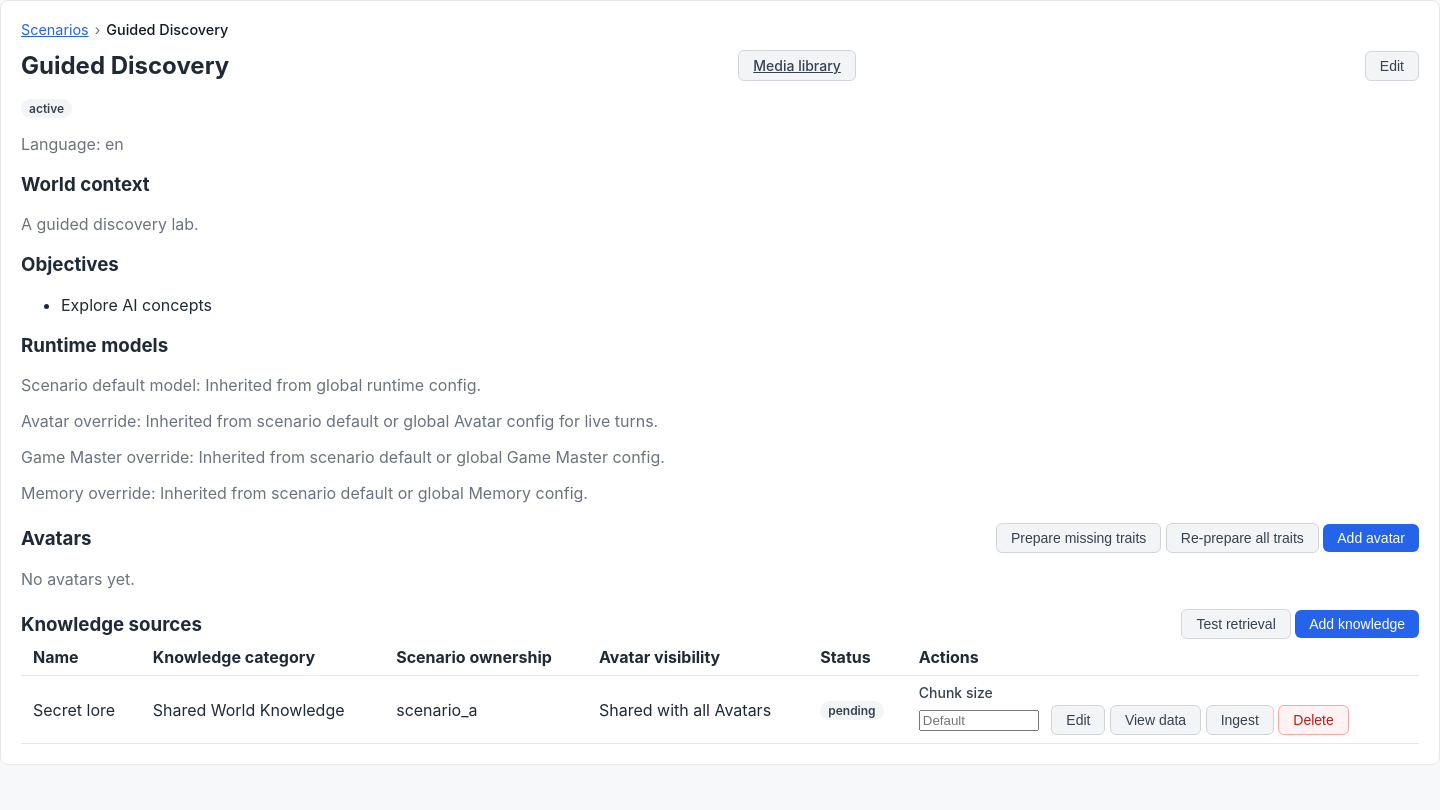
Test: ScenarioDetailPage knowledge ingestion feedback › polls the ingestion job and refreshes the source status on success
Expected: the heading "Guided Discovery" is shown, [21,51,229,80]
Type "500" into the number field named "Chunk size for Secret lore" at x=979, y=721, box [919,710,1039,731]
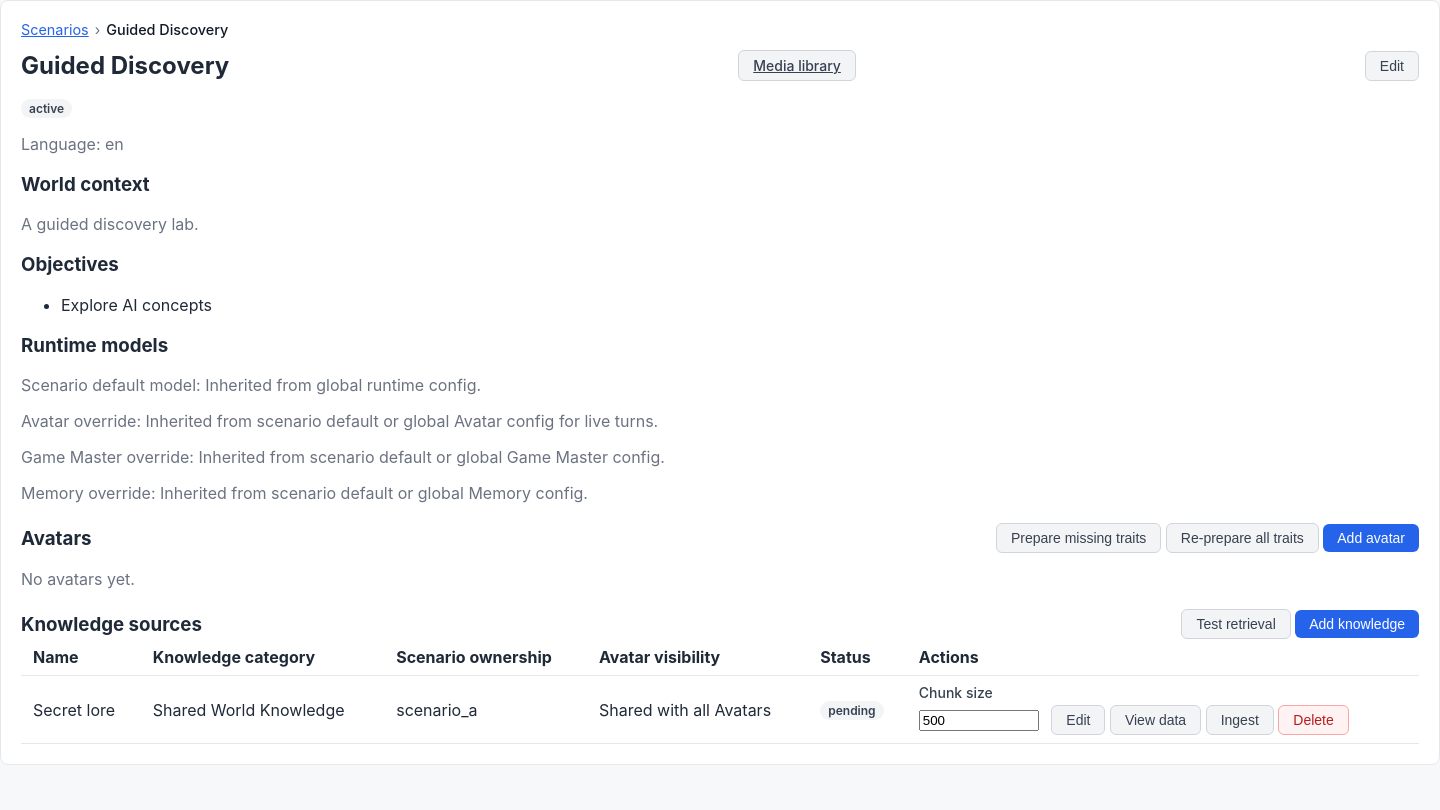
Click the button "Ingest" at x=1240, y=720, box [1206,705,1274,735]
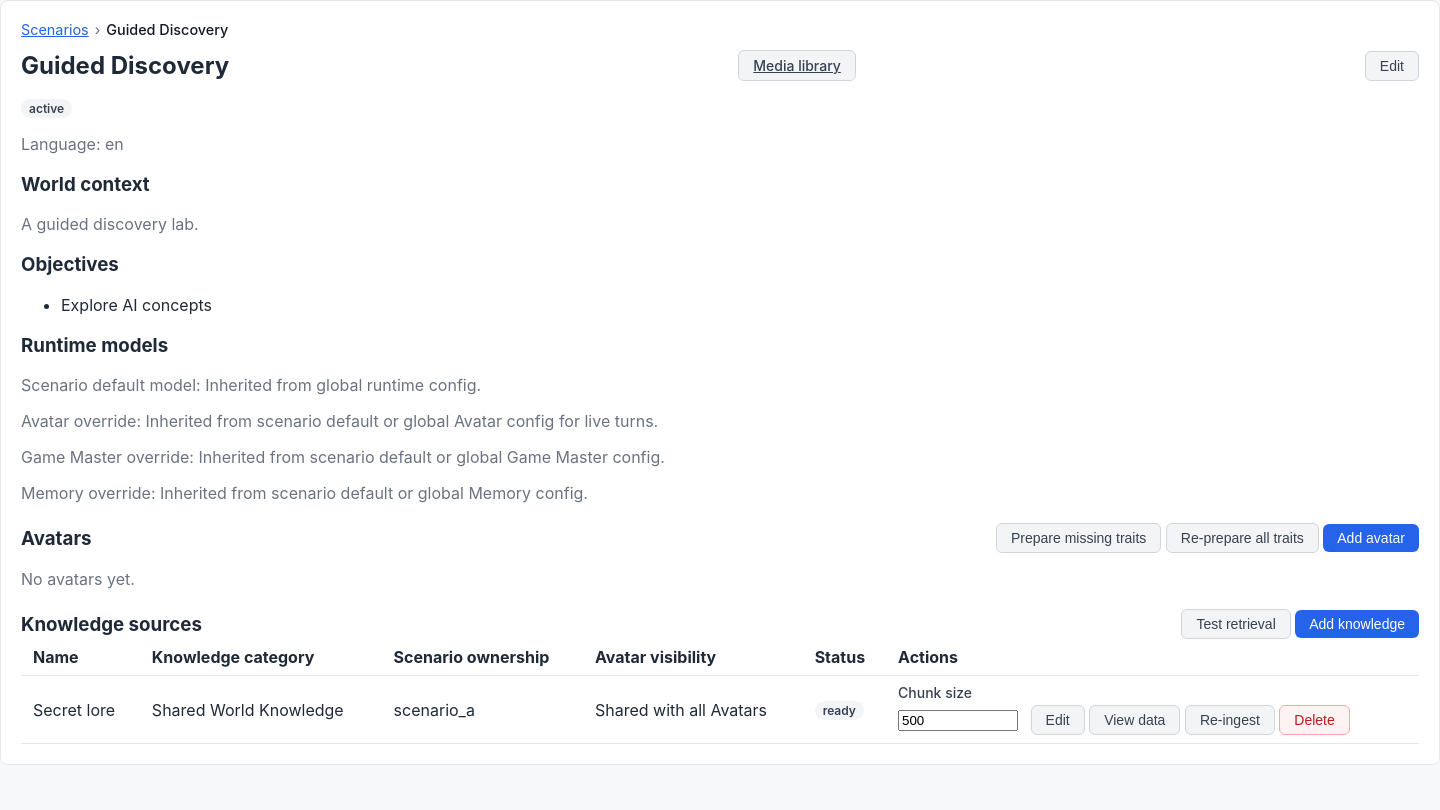
Result: the text "ready" is shown at [815,701,864,720]
